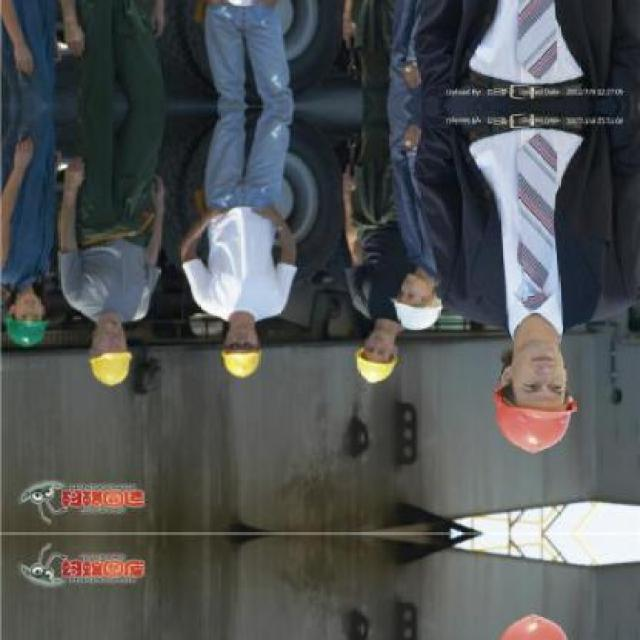safetyhelmet: (492, 332, 582, 456), (78, 316, 138, 392), (216, 306, 268, 381), (5, 275, 49, 356), (350, 321, 406, 384), (396, 272, 444, 336)
